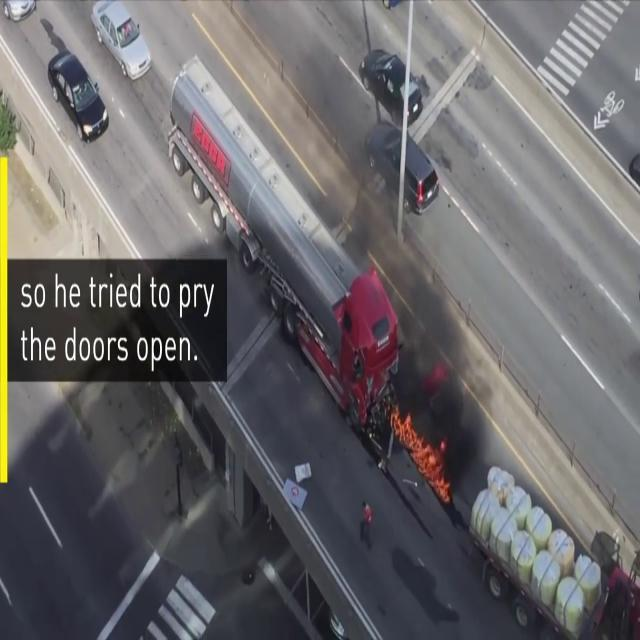Fire: (392, 400, 448, 500)
Smoke: (386, 244, 484, 462)
